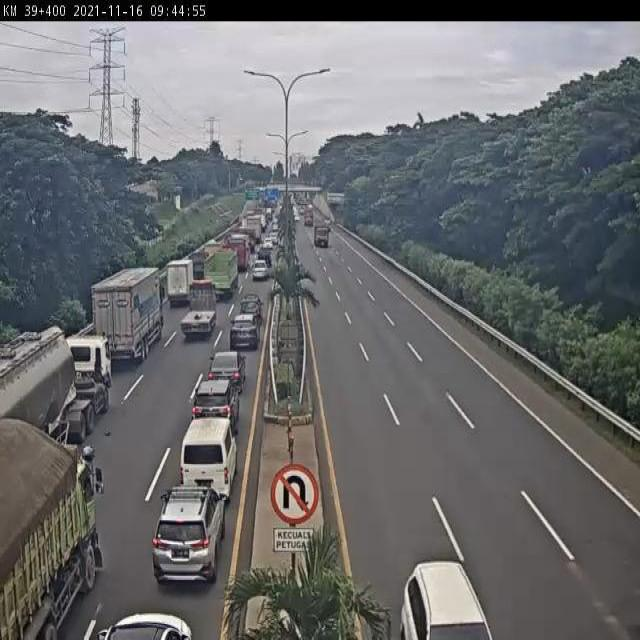car: (152, 488, 224, 584), (188, 382, 236, 446), (205, 355, 242, 397), (227, 313, 259, 352), (235, 298, 262, 330), (250, 258, 271, 286)
small bus: (180, 419, 235, 500)
truck-l-: (91, 265, 164, 363), (205, 248, 241, 300)
truck-m-: (180, 284, 215, 340), (166, 256, 197, 304)
truck-xl-: (0, 339, 110, 476)
